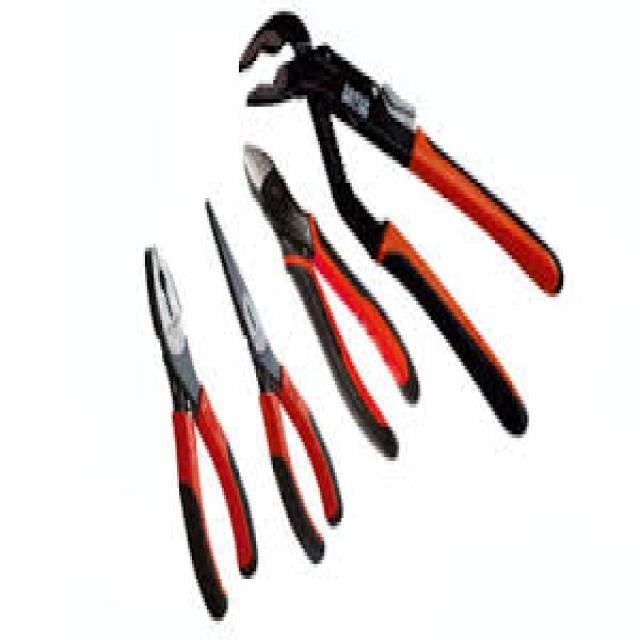pliers: (223, 9, 559, 448), (238, 132, 432, 476), (204, 180, 342, 572), (132, 226, 262, 628)
